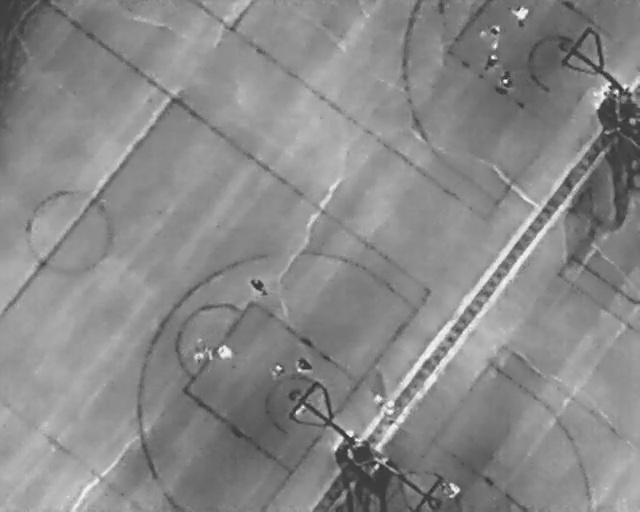Person: (476, 50, 500, 79), (247, 273, 269, 298), (441, 480, 462, 501), (512, 5, 529, 30), (487, 22, 502, 49), (217, 343, 236, 363), (192, 337, 206, 363), (295, 358, 315, 375), (271, 362, 284, 385), (501, 68, 511, 91)
